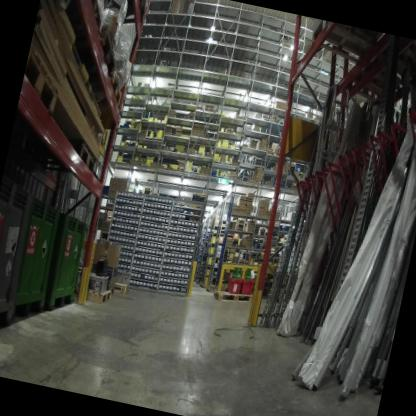pallet: (305, 18, 399, 80), (18, 46, 68, 118), (89, 6, 128, 71), (84, 61, 132, 109), (101, 0, 156, 36), (67, 139, 108, 181), (60, 0, 115, 30), (209, 280, 257, 313), (77, 283, 115, 310), (107, 278, 131, 299)
